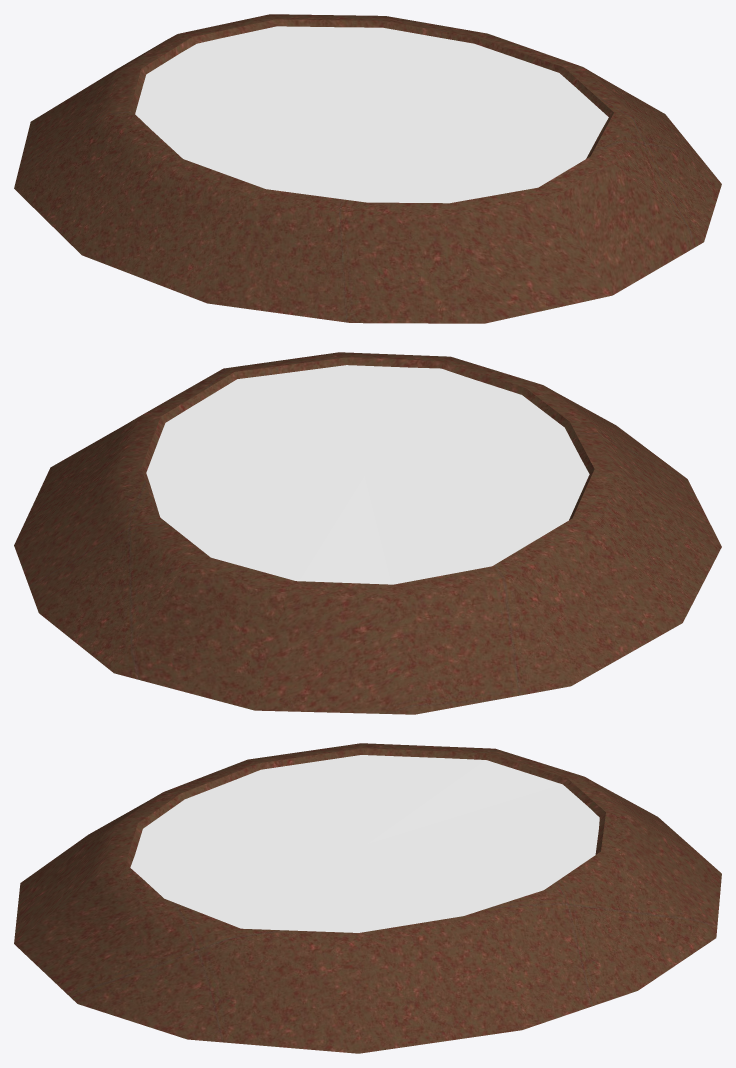
Rendered from HotSpring1.fbx.
3 views of the same model, one above another, from view 1: azimuth 30°, elevation 25°; view 2: azimuth 150°, elevation 25°; view 3: azimuth 270°, elevation 25° (orthographic). The views are drawn at different scales.
Visible parts, largest first — view 1: HotSpring1; view 2: HotSpring1; view 3: HotSpring1.
Boxes of the visible parts, x1,y1,x2,y2 form: HotSpring1: [14, 14, 721, 323]; HotSpring1: [14, 352, 721, 714]; HotSpring1: [14, 743, 721, 1053].
Size of the model in its own units: 80921 by 76683 by 9000.
Materials: 2 (1 with a texture image).
